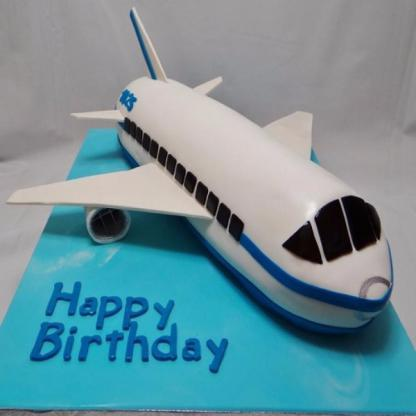CIV_Plane: (14, 0, 396, 335)
